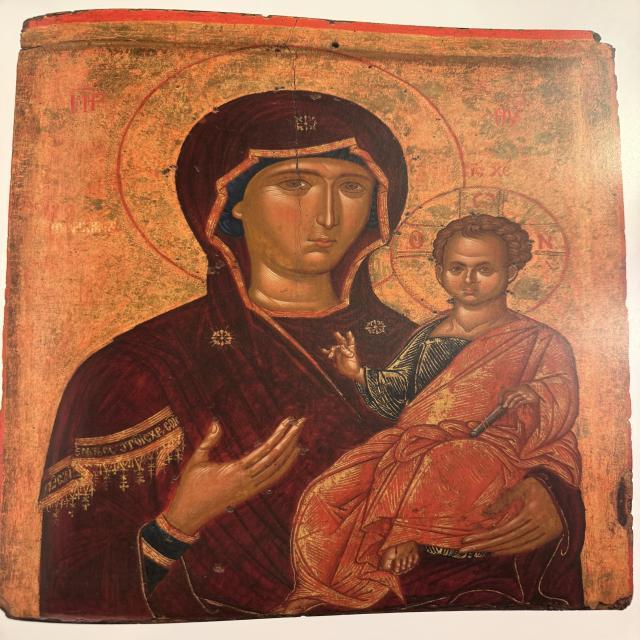aura: (105, 43, 466, 297), (396, 186, 574, 321)
christ_child: (330, 182, 614, 564)
christ_hand: (315, 326, 363, 381)
mary_and_child: (45, 43, 609, 607)
scroll: (463, 388, 528, 443)
